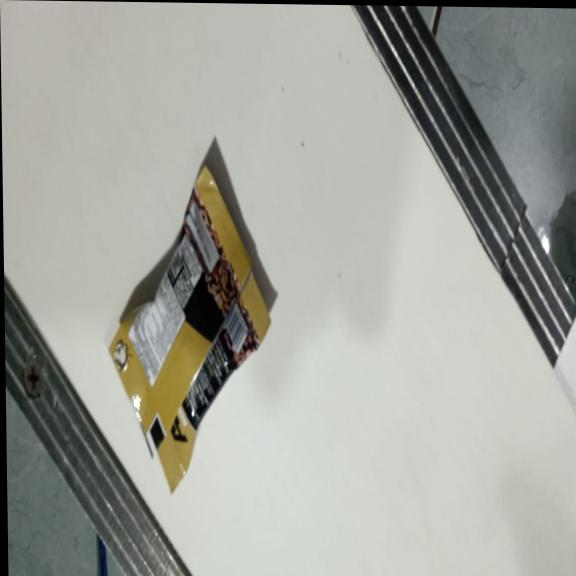Plastik: (106, 161, 275, 501)
